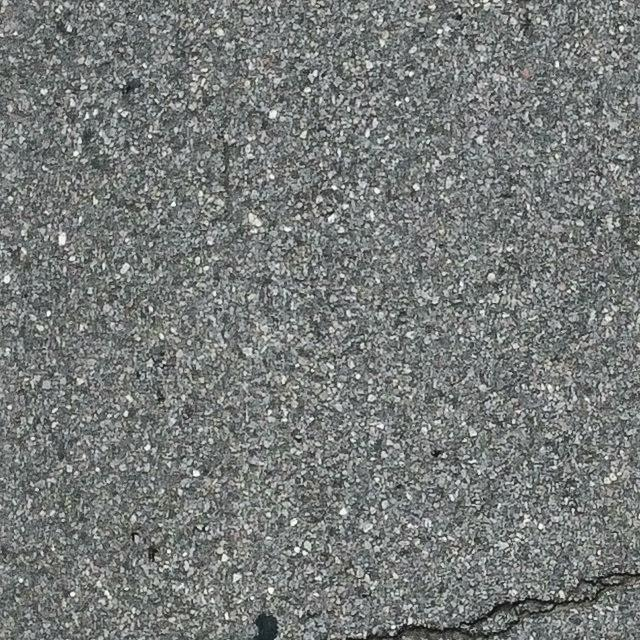TransverseCrack: (366, 569, 640, 640)
